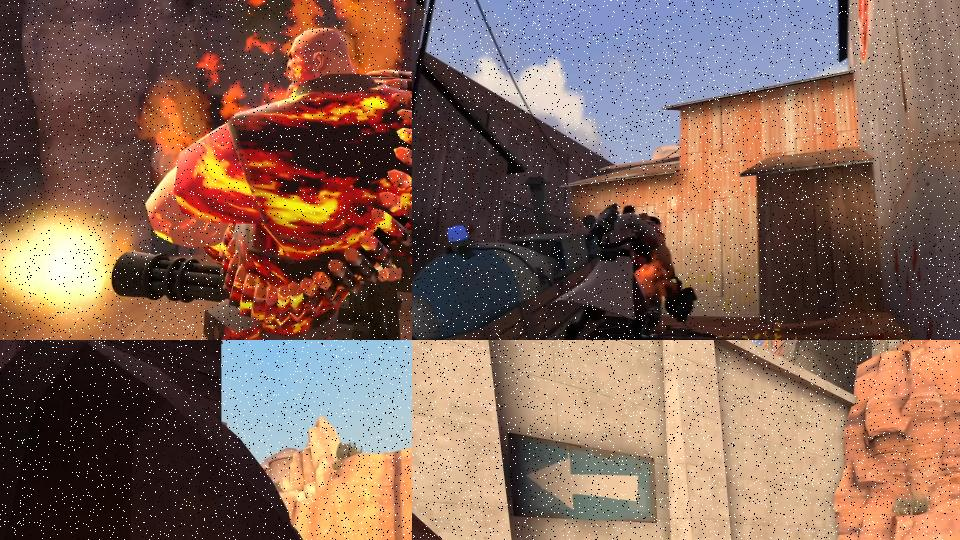Enemy: (109, 25, 412, 340), (545, 202, 658, 340)
